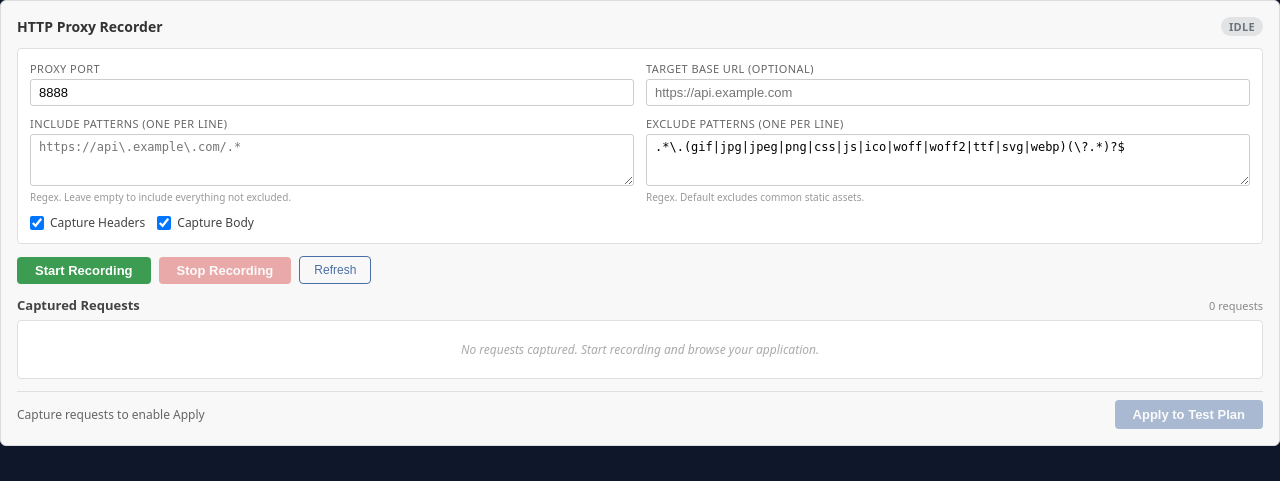
Test: ProxyRecorderPanel — apply to test plan › shows error when applyToTestPlan fails
The image size is (1280, 481).
Step 1. Click the button with test id "refresh-captured-btn" → coordinates (335, 270), box [299,256,371,284]
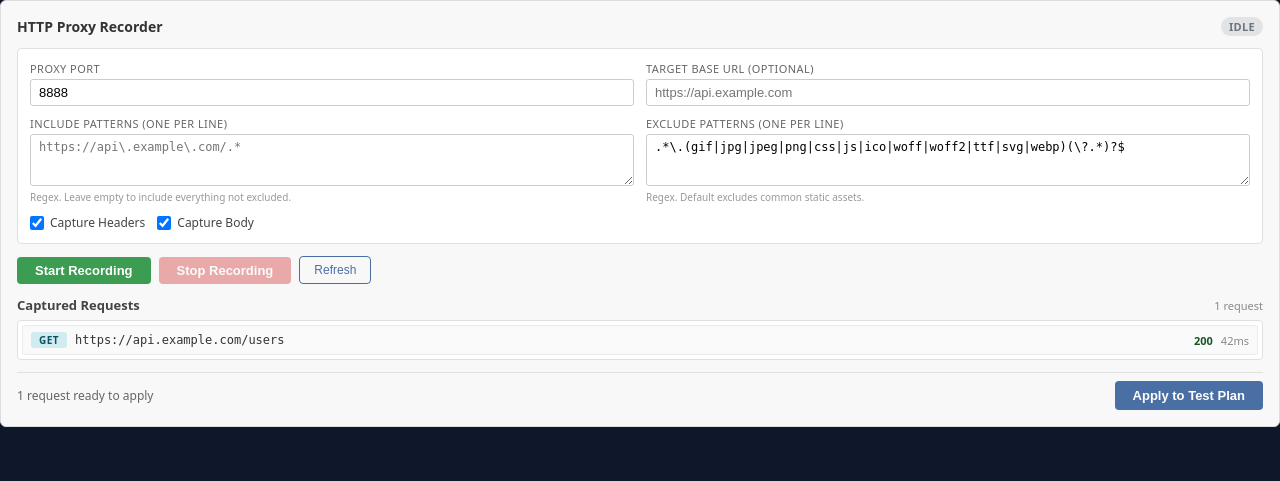
Step 2. Click the button with test id "apply-btn" → coordinates (1189, 396), box [1115,381,1263,410]
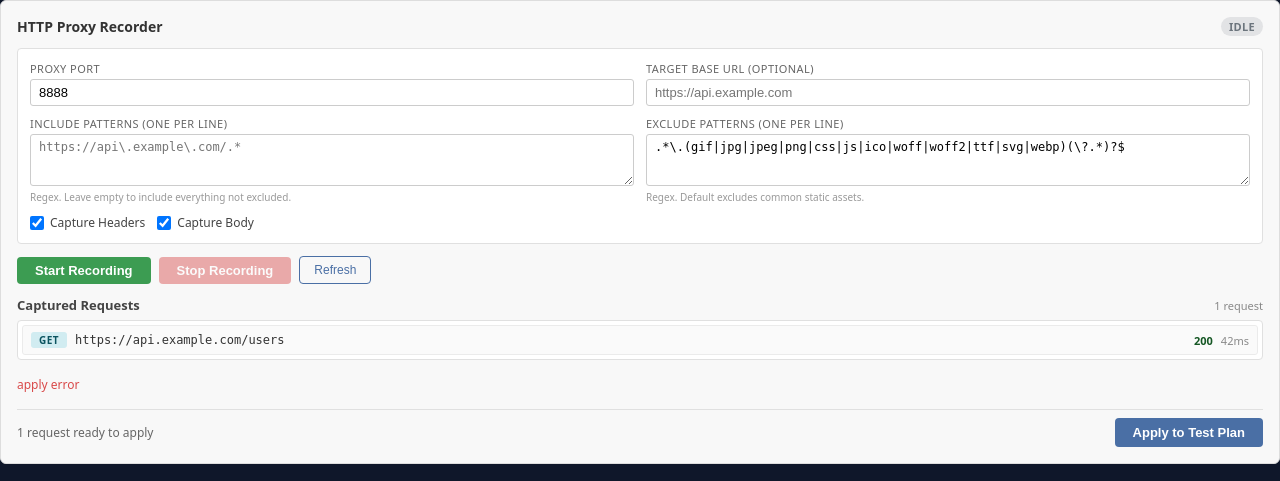
Check: the message with test id "recorder-error" reads "apply error", box [17,376,80,393]
